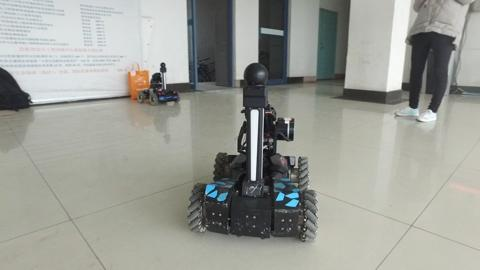bag: (1, 63, 35, 115), (125, 60, 152, 104)
chariot: (185, 59, 319, 243), (137, 61, 182, 105)
